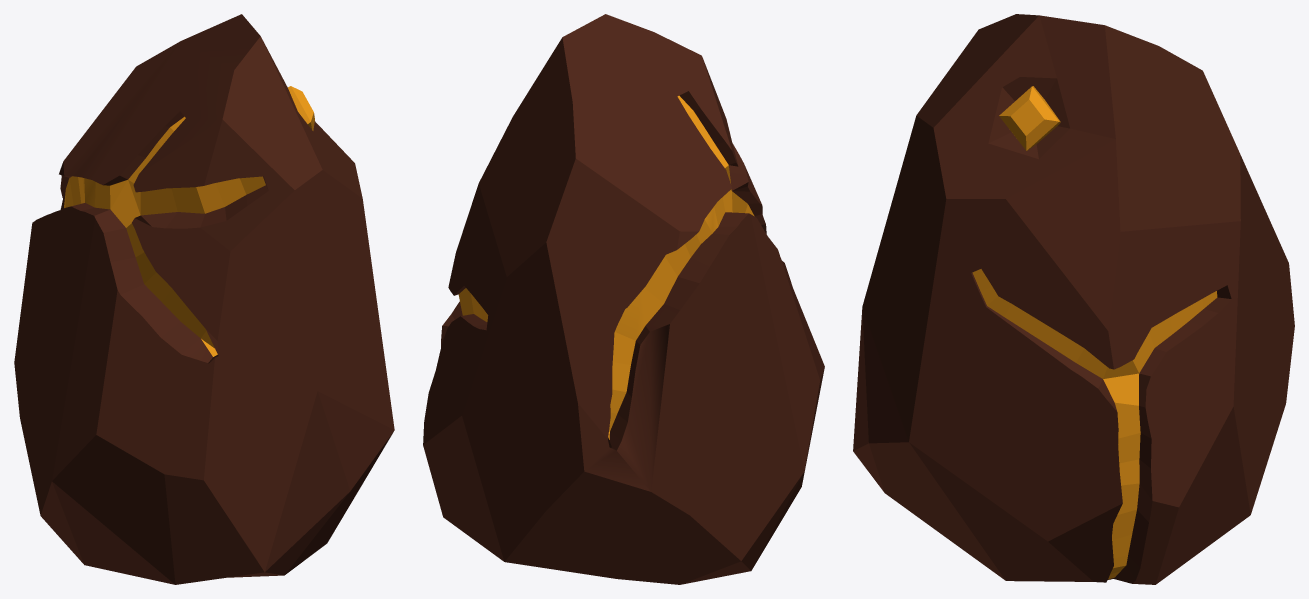
The model's file is goldenOre1-1.fbx.
3 views of the same model, side by side, from view 1: azimuth 30°, elevation 25°; view 2: azimuth 150°, elevation 25°; view 3: azimuth 270°, elevation 25° (orthographic). The views are drawn at different scales.
Parts seen in each view (by area): view 1: Cube; view 2: Cube; view 3: Cube.
Part boxes in pixels (x1,y1,x2,y2): Cube: (14, 14, 394, 584); Cube: (423, 14, 824, 584); Cube: (853, 14, 1294, 584).
Size of the model in its own units: 266 by 397 by 287.
